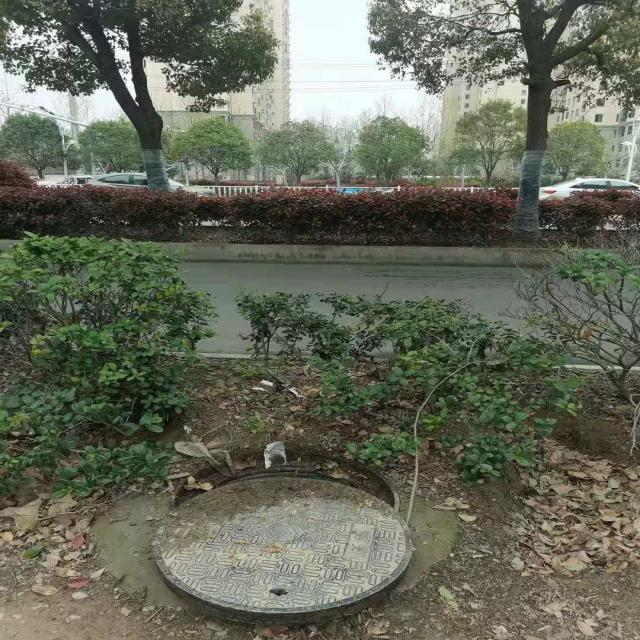Faulty: (148, 449, 418, 618)
